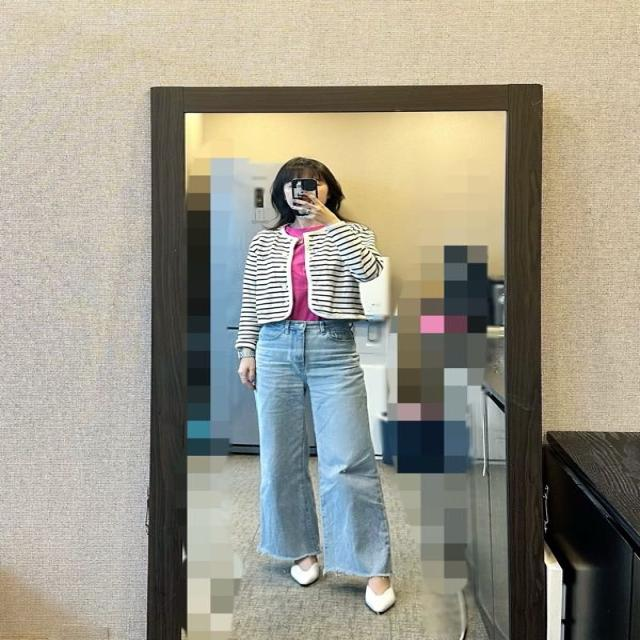cardigan: (235, 219, 381, 363)
denimpants: (251, 318, 396, 578)
